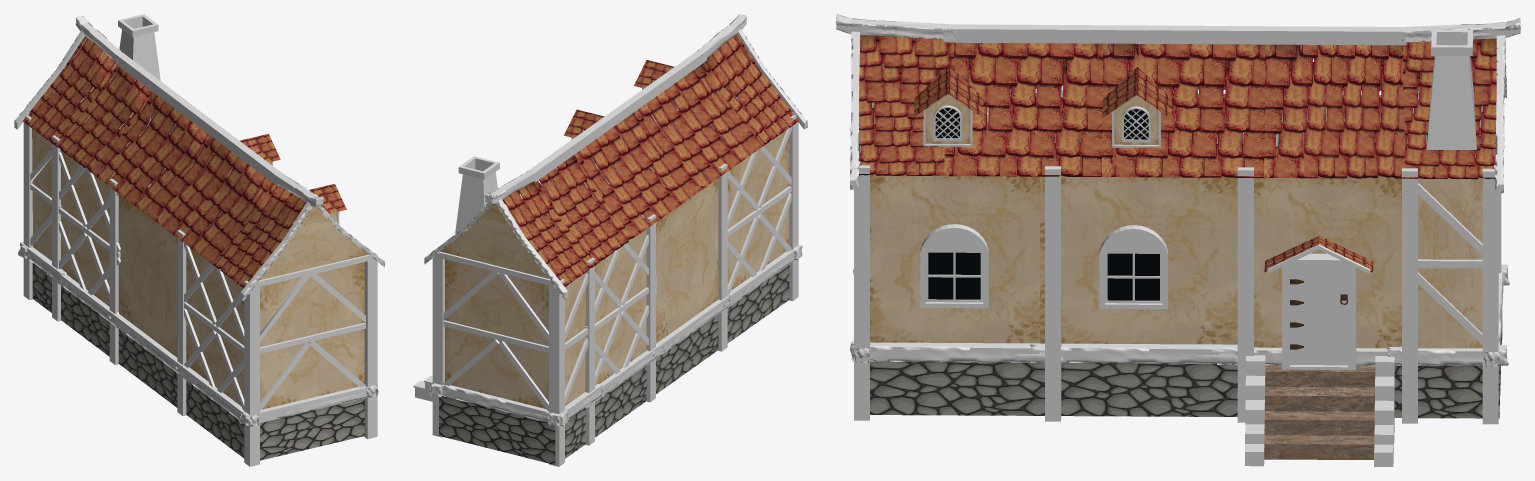
The model's file is house_6.fbx.
3 views of the same model, side by side, from view 1: azimuth 30°, elevation 25°; view 2: azimuth 150°, elevation 25°; view 3: azimuth 270°, elevation 25° (orthographic). The views are drawn at different scales.
Parts seen in each view (by area): view 1: Plane.351, Cube.444, Plane.1662, Plane.1661, Cube.429, Plane.348, Cube.430, Cube.442, Cube.443, Plane.352, Cube.431, Cube.432 (+12 smaller); view 2: Plane.349, Cube.442, Plane.1662, Plane.1661, Cube.429, Plane.348, Cube.430, Cube.444, Cube.443, Plane.350, Cube.431, Cube.440 (+12 smaller); view 3: Plane.344, Plane.345, Plane.1662, Plane.1661, Plane.372, Cube.443, Cube.445, Cube.444, Cube.428, Cube.442, Plane.339, Plane.346 (+11 smaller).
Boxes of the visible parts, x1,y1,x2,y2 form: Plane.351: (239, 262, 378, 426); Cube.444: (212, 173, 384, 300); Plane.1662: (154, 123, 292, 263); Plane.1661: (90, 80, 228, 223); Cube.429: (175, 243, 258, 427); Plane.348: (109, 194, 184, 376); Cube.430: (46, 150, 120, 329); Cube.442: (14, 16, 124, 146); Cube.443: (56, 53, 159, 172); Plane.352: (260, 398, 364, 460); Cube.431: (20, 128, 66, 283); Cube.432: (244, 280, 259, 466); Plane.349: (432, 259, 567, 426); Cube.442: (424, 171, 597, 299); Plane.1662: (631, 50, 762, 185); Plane.1661: (567, 92, 706, 237); Cube.429: (723, 126, 795, 310); Plane.348: (651, 178, 730, 359); Cube.430: (585, 222, 664, 408); Cube.444: (697, 14, 807, 145); Cube.443: (518, 143, 635, 262); Plane.350: (439, 396, 555, 464); Cube.431: (547, 272, 602, 426); Cube.440: (549, 279, 564, 466); Plane.344: (1030, 175, 1237, 363); Plane.345: (849, 174, 1062, 362); Plane.1662: (943, 24, 1142, 177); Plane.1661: (1105, 25, 1304, 178); Plane.372: (1254, 175, 1401, 348); Cube.443: (1299, 26, 1406, 178); Cube.445: (1245, 355, 1394, 466); Cube.444: (836, 14, 955, 189); Cube.428: (1387, 177, 1508, 365); Cube.442: (1399, 18, 1520, 193); Plane.339: (1061, 362, 1237, 416); Plane.346: (870, 361, 1044, 415).
Bounding box in the file's own units: 117 × 151 × 253.
8 materials, 5 textured.
